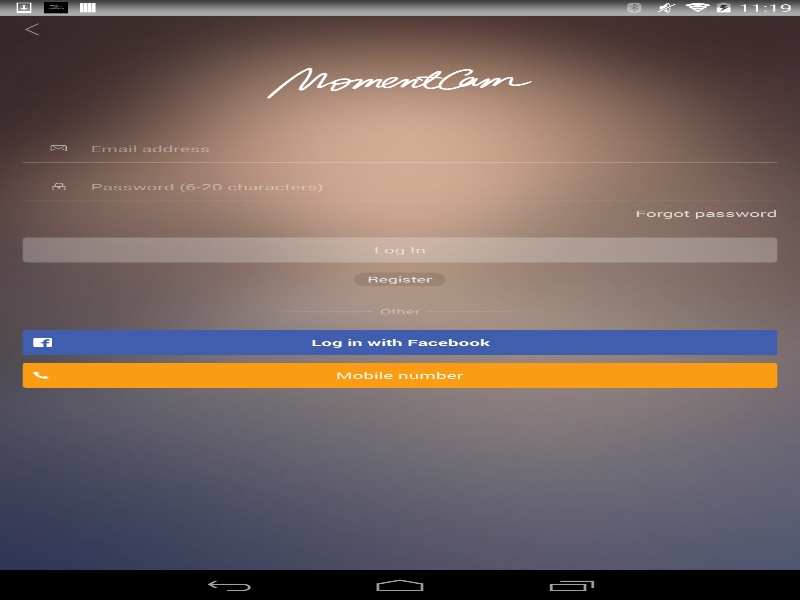Button: (22, 329, 777, 355)
Input: (22, 135, 777, 163), (22, 173, 777, 201)
